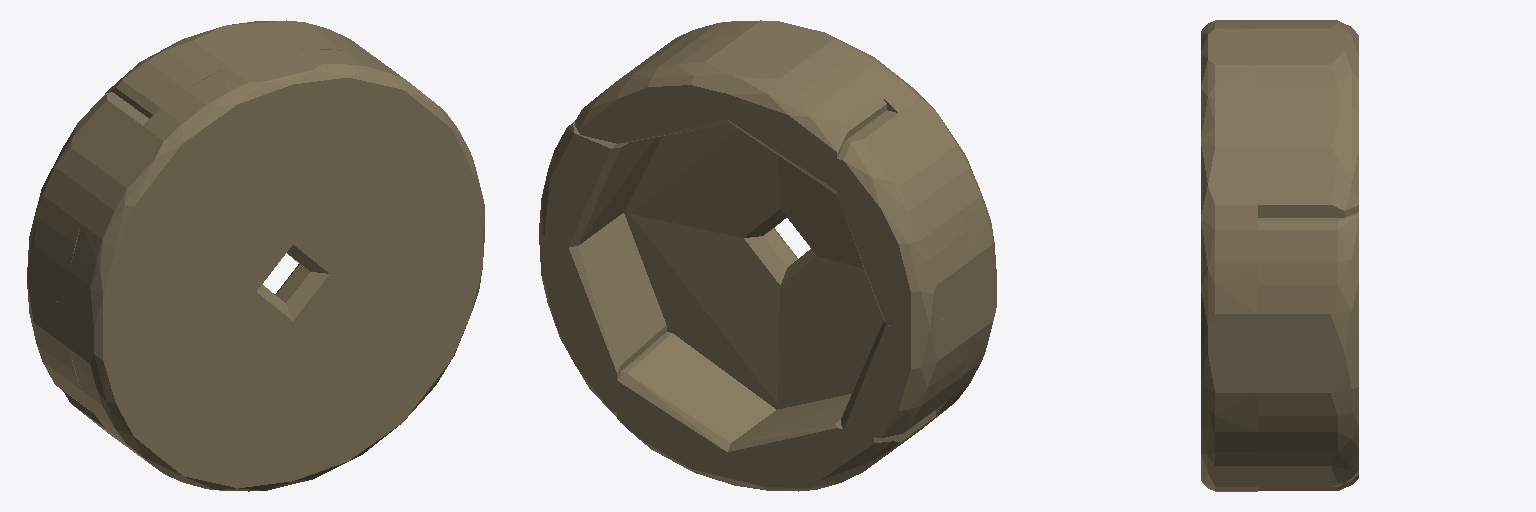
robot.urdf — Bowl:
<?xml version="1.0"?>
<robot name="Bowl">
  <link name="base_link">
    <visual>
      <origin xyz="0 0 0" rpy="0 0 0" />
      <geometry>
        <mesh filename="Bowl.obj" />      
      </geometry>
      <material name="tan">
        <color rgba="0.55 0.5 0.4 1" />
      </material>
    </visual>
    <collision>
      <origin xyz="0 0 0" rpy="0 0 0" />
      <geometry>
        <mesh filename="Bowl.obj" />
      </geometry>
    </collision>
  </link>
</robot>

--- Facts derived from the render (not from the file) ---
3 views of the same robot in one strip: view 1: azimuth 30°, elevation 25°; view 2: azimuth 150°, elevation 25°; view 3: azimuth 270°, elevation 25° (orthographic).
Robot: Bowl — 1 links, 0 joints (none); root link base_link; default pose: all joints at 0.
Visible links, largest first — view 1: base_link; view 2: base_link; view 3: base_link.
Boxes of the visible links, x1=… form: base_link: x1=27, y1=20, x2=484, y2=491; base_link: x1=539, y1=20, x2=996, y2=491; base_link: x1=1201, y1=20, x2=1358, y2=491.
Bounding box of the posed robot: 41.25 × 14.18 × 41.25 m (x, y, z).
Meshes: 1 distinct files referenced, 1 mesh visuals loaded (1 OBJ).
